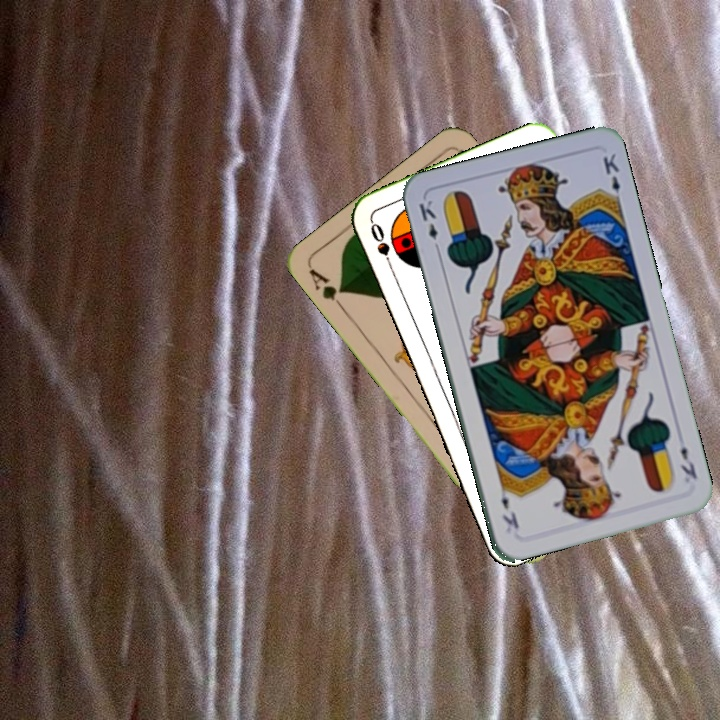EK: (415, 195, 443, 255), (676, 442, 700, 482)
GA: (304, 264, 349, 314)
SO: (366, 218, 397, 275)
